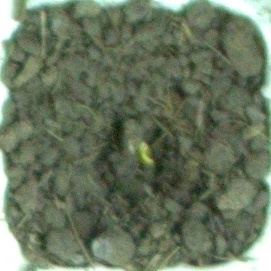pepper seed: (54, 55, 218, 223)
